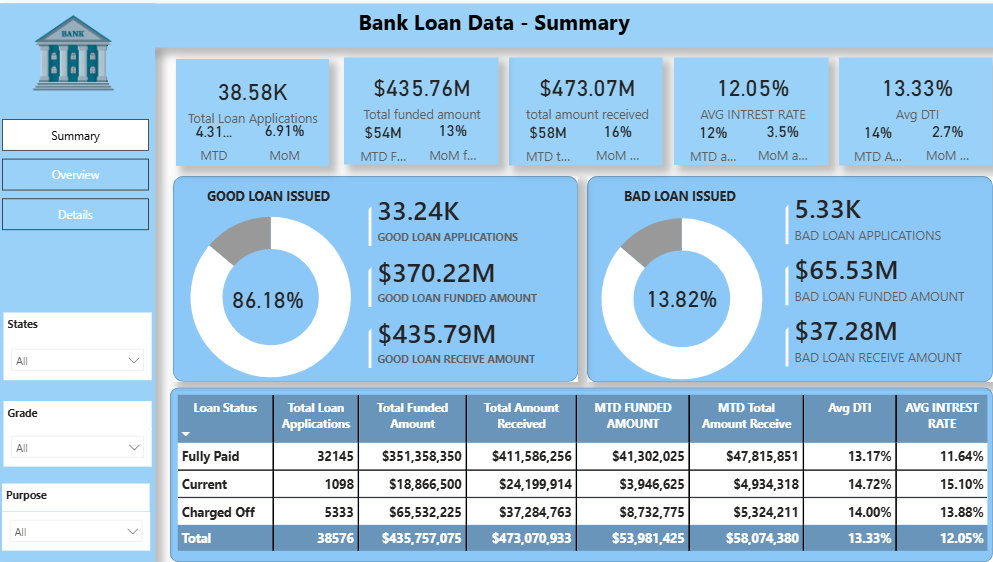

The page's visual inventory and layout, read from the dashboard file:
{"tool":"powerbi","page":{"name":"Summary ","canvas":[1280,720],"ordinal":0},"visuals":[{"type":"textbox","box":[446,81.6,194.4,134.6],"z":0,"group":"g3"},{"type":"textbox","box":[654.5,81.6,193,135.7],"z":0,"group":"g2"},{"type":"textbox","box":[861.8,81.6,194.4,135.6],"z":0,"group":"g4"},{"type":"textbox","box":[1070.3,81.6,193,135.7],"z":0,"group":"g5"},{"type":"textbox","box":[234.3,82.9,193,134.3],"z":0,"group":"g1"},{"type":"shape","box":[751.4,230,511.4,260],"z":0},{"type":"textbox","box":[10,68.6,198.6,648.6],"z":1000},{"type":"card","fields":{"Values":["loan_data.Total funded amount"]},"box":[448.9,81,188.6,92.9],"z":1000,"group":"g3"},{"type":"card","fields":{"Values":["loan_data.total amount received"]},"box":[656.2,81,193,93.3],"z":1000,"group":"g2"},{"type":"card","fields":{"Values":["loan_data.AVG INTREST RATE"]},"box":[863.5,81,194.4,93.2],"z":1000,"group":"g4"},{"type":"card","fields":{"Values":["loan_data.Avg DTI"]},"box":[1072,81,193,93.3],"z":1000,"group":"g5"},{"type":"card","fields":{"Values":["loan_data.Total Loan Applications"]},"box":[234.3,87.2,192.9,92.9],"z":1000,"group":"g1"},{"type":"card","fields":{"Values":["loan_data.MTD Loan Applications"]},"box":[252.7,153.7,56.8,63.6],"z":2000,"group":"g1"},{"type":"card","fields":{"Values":["loan_data.MTD FUNDED AMOUNT"]},"box":[459.4,153.9,71.5,62.5],"z":2000,"group":"g3"},{"type":"card","fields":{"Values":["loan_data.mtd avg int rate"]},"box":[875.2,154.5,71.5,63],"z":2000,"group":"g4"},{"type":"card","fields":{"Values":["loan_data.MTD total amount receive"]},"box":[667.8,154.6,71,63],"z":2000,"group":"g2"},{"type":"card","fields":{"Values":["loan_data.MTD AVG DTI"]},"box":[1083.6,154.6,71,63],"z":2000,"group":"g5"},{"type":"shape","box":[230.5,230.5,510.5,259.3],"z":2000},{"type":"textbox","box":[10,12.8,1258.6,55.6],"z":3000},{"type":"card","fields":{"Values":["loan_data.Good Loan %"]},"box":[290.9,351.3,118,67.2],"z":4000},{"type":"card","fields":{"Values":["loan_data.Mom funded amount"]},"box":[546,152.5,72.9,62.5],"z":4001,"group":"g3"},{"type":"card","fields":{"Values":["loan_data.Mom avd int rate"]},"box":[961.8,153,72.9,63],"z":4001,"group":"g4"},{"type":"card","fields":{"Values":["loan_data.Mom Amount receive"]},"box":[753.8,153.1,72.4,63],"z":4001,"group":"g2"},{"type":"card","fields":{"Values":["loan_data.MoM AVG DTI"]},"box":[1169.6,153.1,72.4,63],"z":4001,"group":"g5"},{"type":"card","fields":{"Values":["loan_data.MoM"]},"box":[333.6,153.7,72.4,62.4],"z":4001,"group":"g1"},{"type":"group","id":"g1","title":"Group 1","box":[234.3,82.9,193,134.3],"z":5000},{"type":"group","id":"g2","title":"Group 1","box":[654.5,81,194.9,137.2],"z":6000},{"type":"group","id":"g3","title":"Group 1","box":[446,81,194.4,135.4],"z":7000},{"type":"group","id":"g4","title":"Group 1","box":[861.8,81,196.2,135.8],"z":8000},{"type":"donutChart","fields":{"Category":["loan_data.GOOD VS BAD LOAN"],"Y":["loan_data.Total Loan Applications"]},"box":[221.4,251.4,264.3,262.9],"z":9000},{"type":"group","id":"g5","title":"Group 1","box":[1070.3,81,194.9,137.2],"z":10000},{"type":"textbox","box":[226.4,516,233.3,37],"z":11000},{"type":"textbox","box":[269,240.1,185.2,32.9],"z":12000},{"type":"cardVisual","fields":{"Data":["loan_data.GOOD loan application","loan_data.GOOD loan Funded amount","loan_data.GOOD loan received amount"]},"box":[459.7,230.5,273.1,259.3],"z":13000},{"type":"donutChart","fields":{"Category":["loan_data.GOOD VS BAD LOAN"],"Y":["loan_data.Total Loan Applications"]},"box":[738.3,252.5,264.8,263.5],"z":14000},{"type":"card","fields":{"Values":["loan_data.Bad Loan %"]},"box":[812.9,350,117.1,67.1],"z":15000},{"type":"textbox","box":[793.3,240,168.3,33.3],"z":16000},{"type":"cardVisual","fields":{"Data":["loan_data.BAD LOAN APPLICATIONS","loan_data.BAD LOAN FUNDED AMOUNT","loan_data.BAD LOAN RECEIVE AMOUNT"]},"box":[983.9,229.2,273.1,259.3],"z":17000},{"type":"shape","box":[226.7,496.7,1036.7,220],"z":18000},{"type":"tableEx","fields":{"Values":["loan_data.loan_status","loan_data.Total Loan Applications","loan_data.Total funded amount","loan_data.total amount received","loan_data.MTD FUNDED AMOUNT","loan_data.MTD total amount receive","loan_data.Avg DTI","loan_data.AVG INTREST RATE"]},"box":[230,500,1033.3,220],"z":19000},{"type":"slicer","fields":{"Values":["loan_data.address_state"]},"box":[16.5,439.1,186.6,49.4],"z":20000},{"type":"textbox","box":[16.7,403,186.7,36.7],"z":21000},{"type":"slicer","fields":{"Values":["loan_data.grade"]},"box":[16.7,548,186.7,48.3],"z":22000},{"type":"textbox","box":[16.7,514.7,186.7,36.7],"z":23000},{"type":"slicer","fields":{"Values":["loan_data.purpose"]},"box":[15,653,186.7,48.3],"z":24000},{"type":"textbox","box":[15,618,186,35],"z":25000},{"type":"image","box":[10,12.9,198.6,121.4],"z":25001},{"type":"pageNavigator","box":[15.7,158.6,185.7,141.4],"z":25002}]}

Visuals, with their boxes in screenshot pixels (x1, y1, x2, y2), scaled from the page's 1280x720 canvas onto the 993x562 screenshot:
textbox: (346, 64, 497, 169)
textbox: (508, 64, 657, 170)
textbox: (669, 64, 819, 170)
textbox: (830, 64, 980, 170)
textbox: (182, 65, 331, 170)
shape: (583, 180, 980, 382)
textbox: (8, 54, 162, 560)
card - loan_data.Total funded amount: (348, 63, 495, 136)
card - loan_data.total amount received: (509, 63, 659, 136)
card - loan_data.AVG INTREST RATE: (670, 63, 821, 136)
card - loan_data.Avg DTI: (832, 63, 981, 136)
card - loan_data.Total Loan Applications: (182, 68, 331, 141)
card - loan_data.MTD Loan Applications: (196, 120, 240, 170)
card - loan_data.MTD FUNDED AMOUNT: (356, 120, 412, 169)
card - loan_data.mtd avg int rate: (679, 121, 734, 170)
card - loan_data.MTD total amount receive: (518, 121, 573, 170)
card - loan_data.MTD AVG DTI: (841, 121, 896, 170)
shape: (179, 180, 575, 382)
textbox: (8, 10, 984, 53)
card - loan_data.Good Loan %: (226, 274, 317, 327)
card - loan_data.Mom funded amount: (424, 119, 480, 168)
card - loan_data.Mom avd int rate: (746, 119, 803, 169)
card - loan_data.Mom Amount receive: (585, 120, 641, 169)
card - loan_data.MoM AVG DTI: (907, 120, 964, 169)
card - loan_data.MoM: (259, 120, 315, 169)
"Group 1" group: (182, 65, 331, 170)
"Group 1" group: (508, 63, 659, 170)
"Group 1" group: (346, 63, 497, 169)
"Group 1" group: (669, 63, 821, 169)
donutChart - loan_data.GOOD VS BAD LOAN x loan_data.Total Loan Applications: (172, 196, 377, 401)
"Group 1" group: (830, 63, 982, 170)
textbox: (176, 403, 357, 432)
textbox: (209, 187, 352, 213)
cardVisual - loan_data.GOOD loan application x loan_data.GOOD loan Funded amount: (357, 180, 568, 382)
donutChart - loan_data.GOOD VS BAD LOAN x loan_data.Total Loan Applications: (573, 197, 778, 403)
card - loan_data.Bad Loan %: (631, 273, 721, 326)
textbox: (615, 187, 746, 213)
cardVisual - loan_data.BAD LOAN APPLICATIONS x loan_data.BAD LOAN FUNDED AMOUNT: (763, 179, 975, 381)
shape: (176, 388, 980, 559)
tableEx - loan_data.loan_status x loan_data.Total Loan Applications: (178, 390, 980, 561)
slicer - loan_data.address_state: (13, 343, 158, 381)
textbox: (13, 315, 158, 343)
slicer - loan_data.grade: (13, 428, 158, 465)
textbox: (13, 402, 158, 430)
slicer - loan_data.purpose: (12, 510, 156, 547)
textbox: (12, 482, 156, 510)
image: (8, 10, 162, 105)
pageNavigator: (12, 124, 156, 234)
